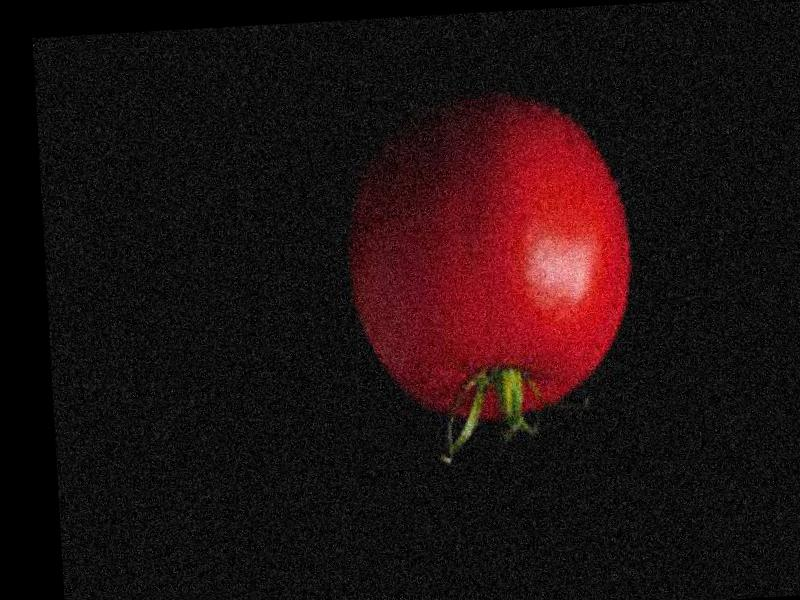Tomato: (341, 97, 637, 426)
